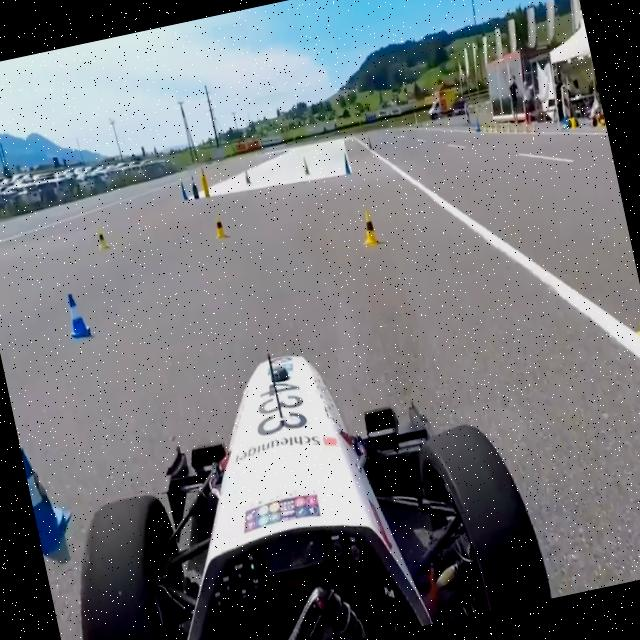blue_cone: (20, 438, 80, 556), (62, 290, 92, 338)
yellow_cone: (357, 208, 382, 246), (212, 212, 230, 240), (94, 224, 110, 250)
